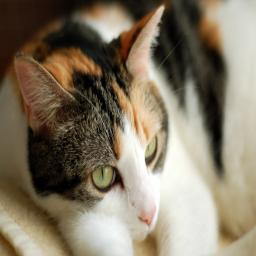catnose: (136, 204, 158, 230)
